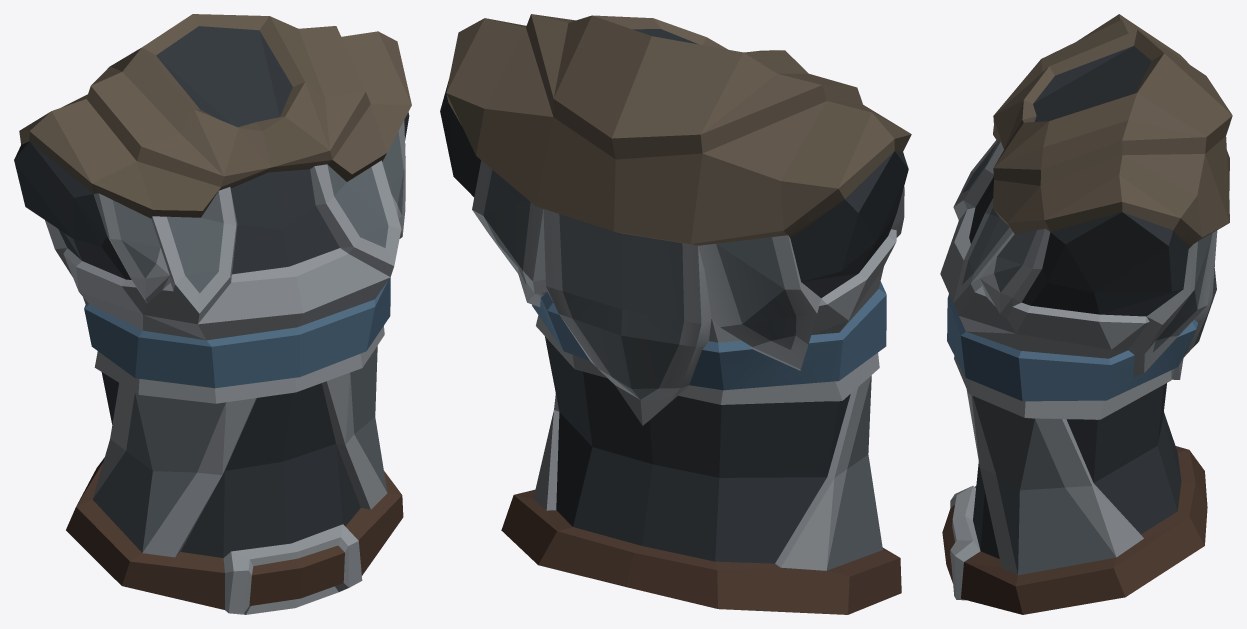
The model's file is Chr_Torso_Male_15_Static.fbx.
3 renders of one model, left to right at view 1: azimuth 30°, elevation 25°; view 2: azimuth 150°, elevation 25°; view 3: azimuth 270°, elevation 25°, orthographic. The views are drawn at different scales.
Visible parts, largest first — view 1: Chr_Torso_Male_15_Static; view 2: Chr_Torso_Male_15_Static; view 3: Chr_Torso_Male_15_Static.
Boxes of the visible parts, x1,y1,x2,y2 form: Chr_Torso_Male_15_Static: (14,14,411,614); Chr_Torso_Male_15_Static: (440,14,911,614); Chr_Torso_Male_15_Static: (940,14,1232,614).
Size of the model in its own units: 0.4947 by 0.6667 by 0.3367.
